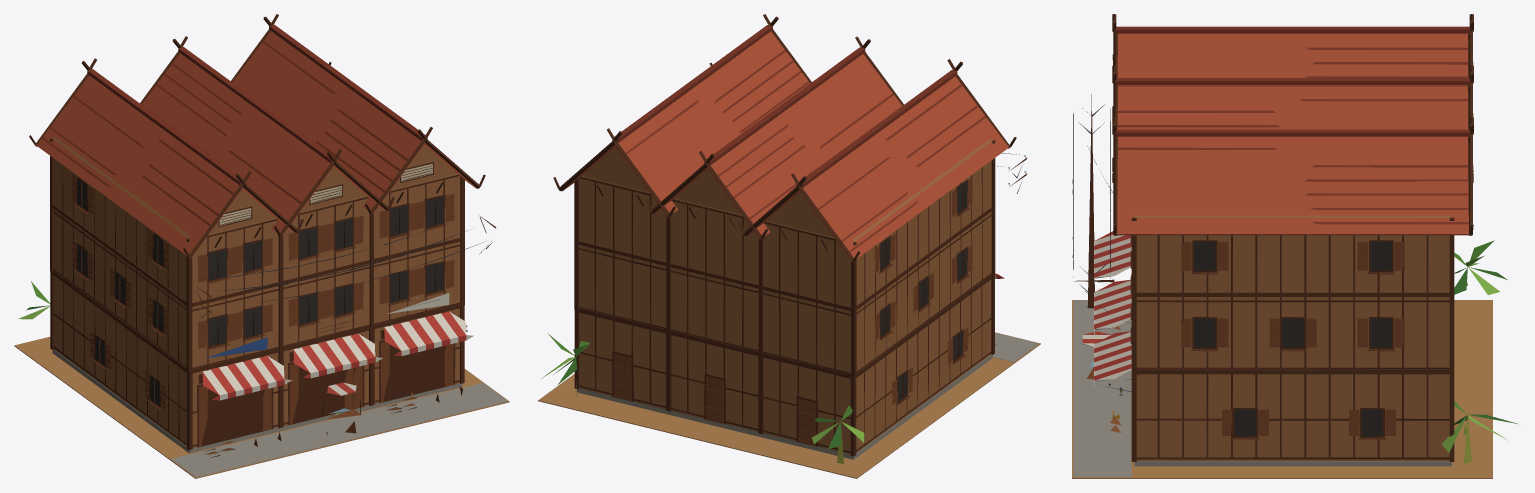
File: shop_4.glb
3 views of the same model, side by side, from view 1: azimuth 30°, elevation 25°; view 2: azimuth 150°, elevation 25°; view 3: azimuth 270°, elevation 25° (orthographic). The views are drawn at different scales.
Parts seen in each view (by area): view 1: body, windows; view 2: body, windows; view 3: body, windows.
Part boxes in pixels (x1,y1,x2,y2): body: (14,14,509,478); windows: (77,179,466,404); body: (538,14,1040,478); windows: (880,181,967,400); body: (1072,14,1517,478); windows: (1120,242,1391,436).
Bounding box in the file's own units: 16 × 13.4 × 17.05.
